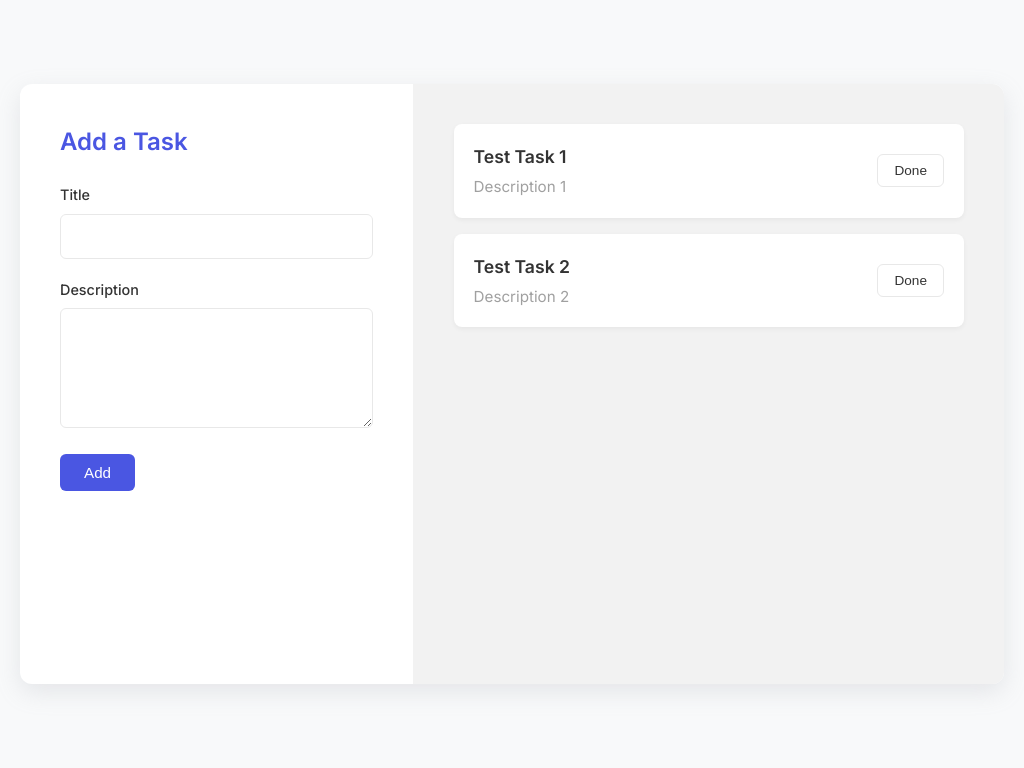
Todo App › allows completing a task
The image size is (1024, 768).
expect the heading "Test Task 1" is shown: met, box [474,146,566,167]
Note: Click the Done button on the first task
What coordinates should you click on to do the following:
click the button "Done" in the row of "Test Task 1"
I would click on:
 (911, 171)
Its box is [878,154,944,187].
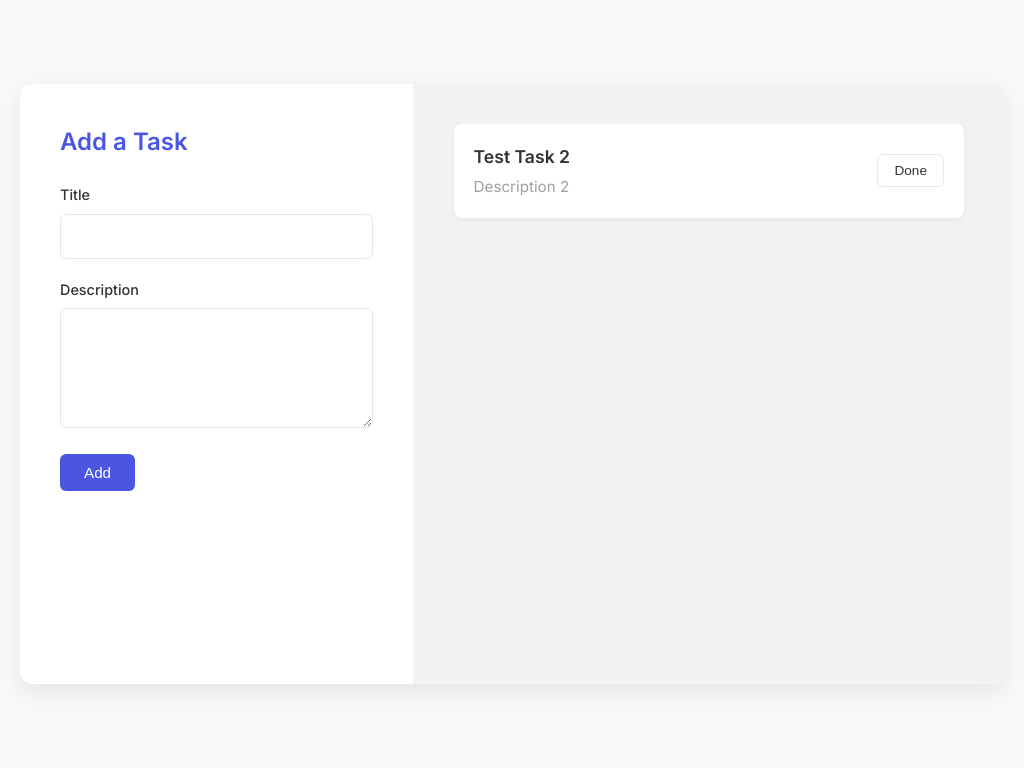
expect the heading "Test Task 2" is shown: met, box [474,146,570,167]
expect the heading "Test Task 1" is gone: met
